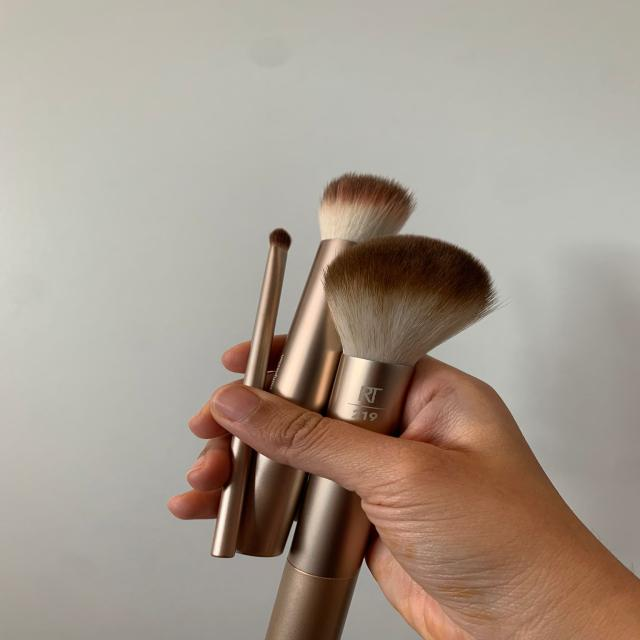brush: (296, 227, 509, 423), (294, 166, 419, 277), (244, 216, 298, 380)
